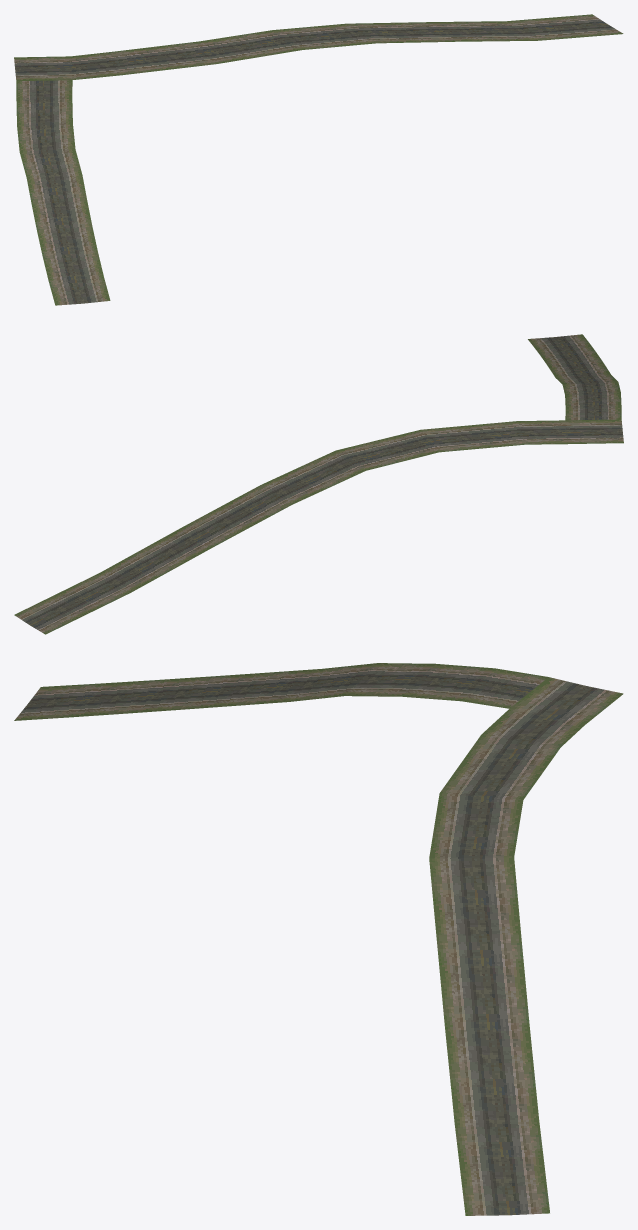
File: lodcunte_roads07.obj
The picture shows the model from 3 angles, top to bottom: view 1: azimuth 30°, elevation 25°; view 2: azimuth 210°, elevation 25°; view 3: azimuth 270°, elevation 25°; orthographic projection. The views are drawn at different scales.
Visible parts, largest first — view 1: LODcunte_roads07; view 2: LODcunte_roads07; view 3: LODcunte_roads07.
Part boxes in pixels (x1,y1,x2,y2): LODcunte_roads07: [14, 14, 623, 305]; LODcunte_roads07: [14, 334, 623, 634]; LODcunte_roads07: [14, 663, 623, 1215].
Bounding box in the file's own units: 291 × 30.58 × 144.
Materials: 1 (1 with a texture image).
